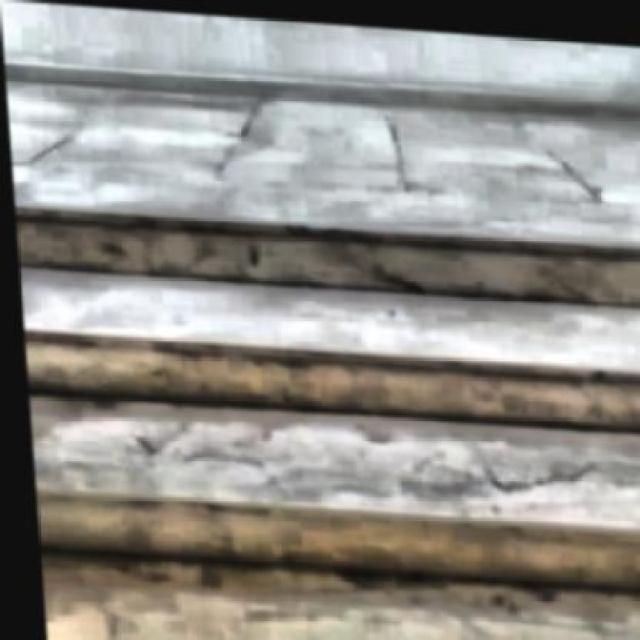stair: (11, 184, 638, 638)
